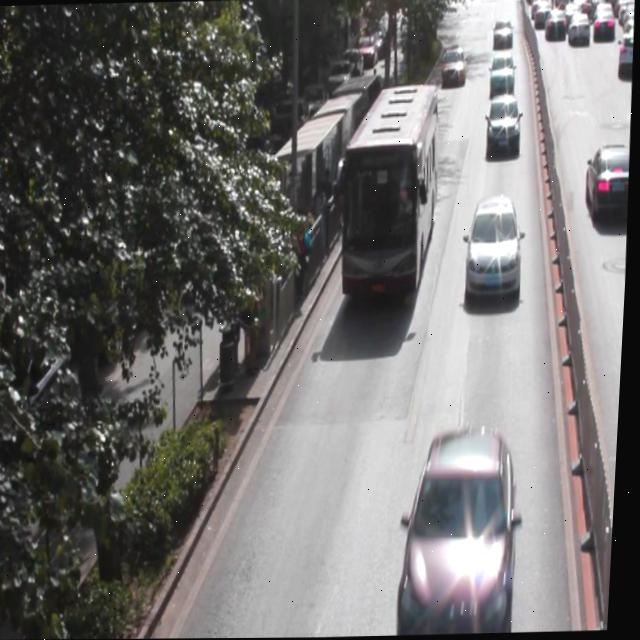car: (401, 428, 525, 636), (465, 195, 526, 301), (584, 142, 632, 228), (483, 94, 523, 154), (488, 52, 516, 95)
van: (340, 83, 442, 295)
